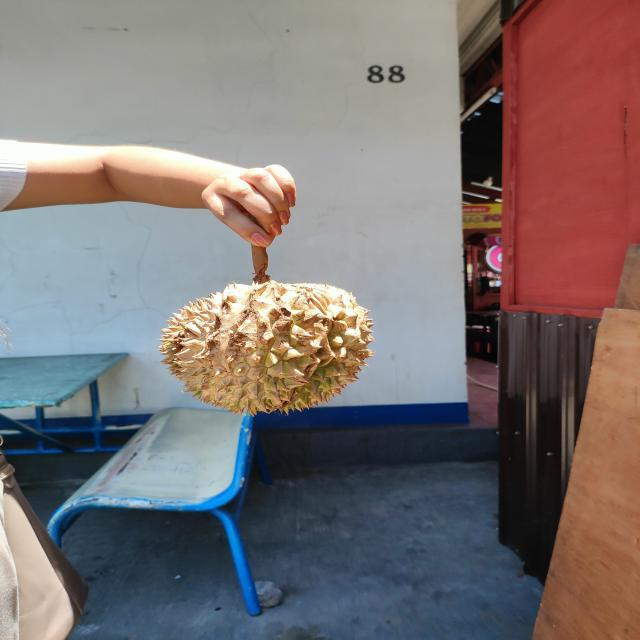mature: (157, 280, 375, 417)
